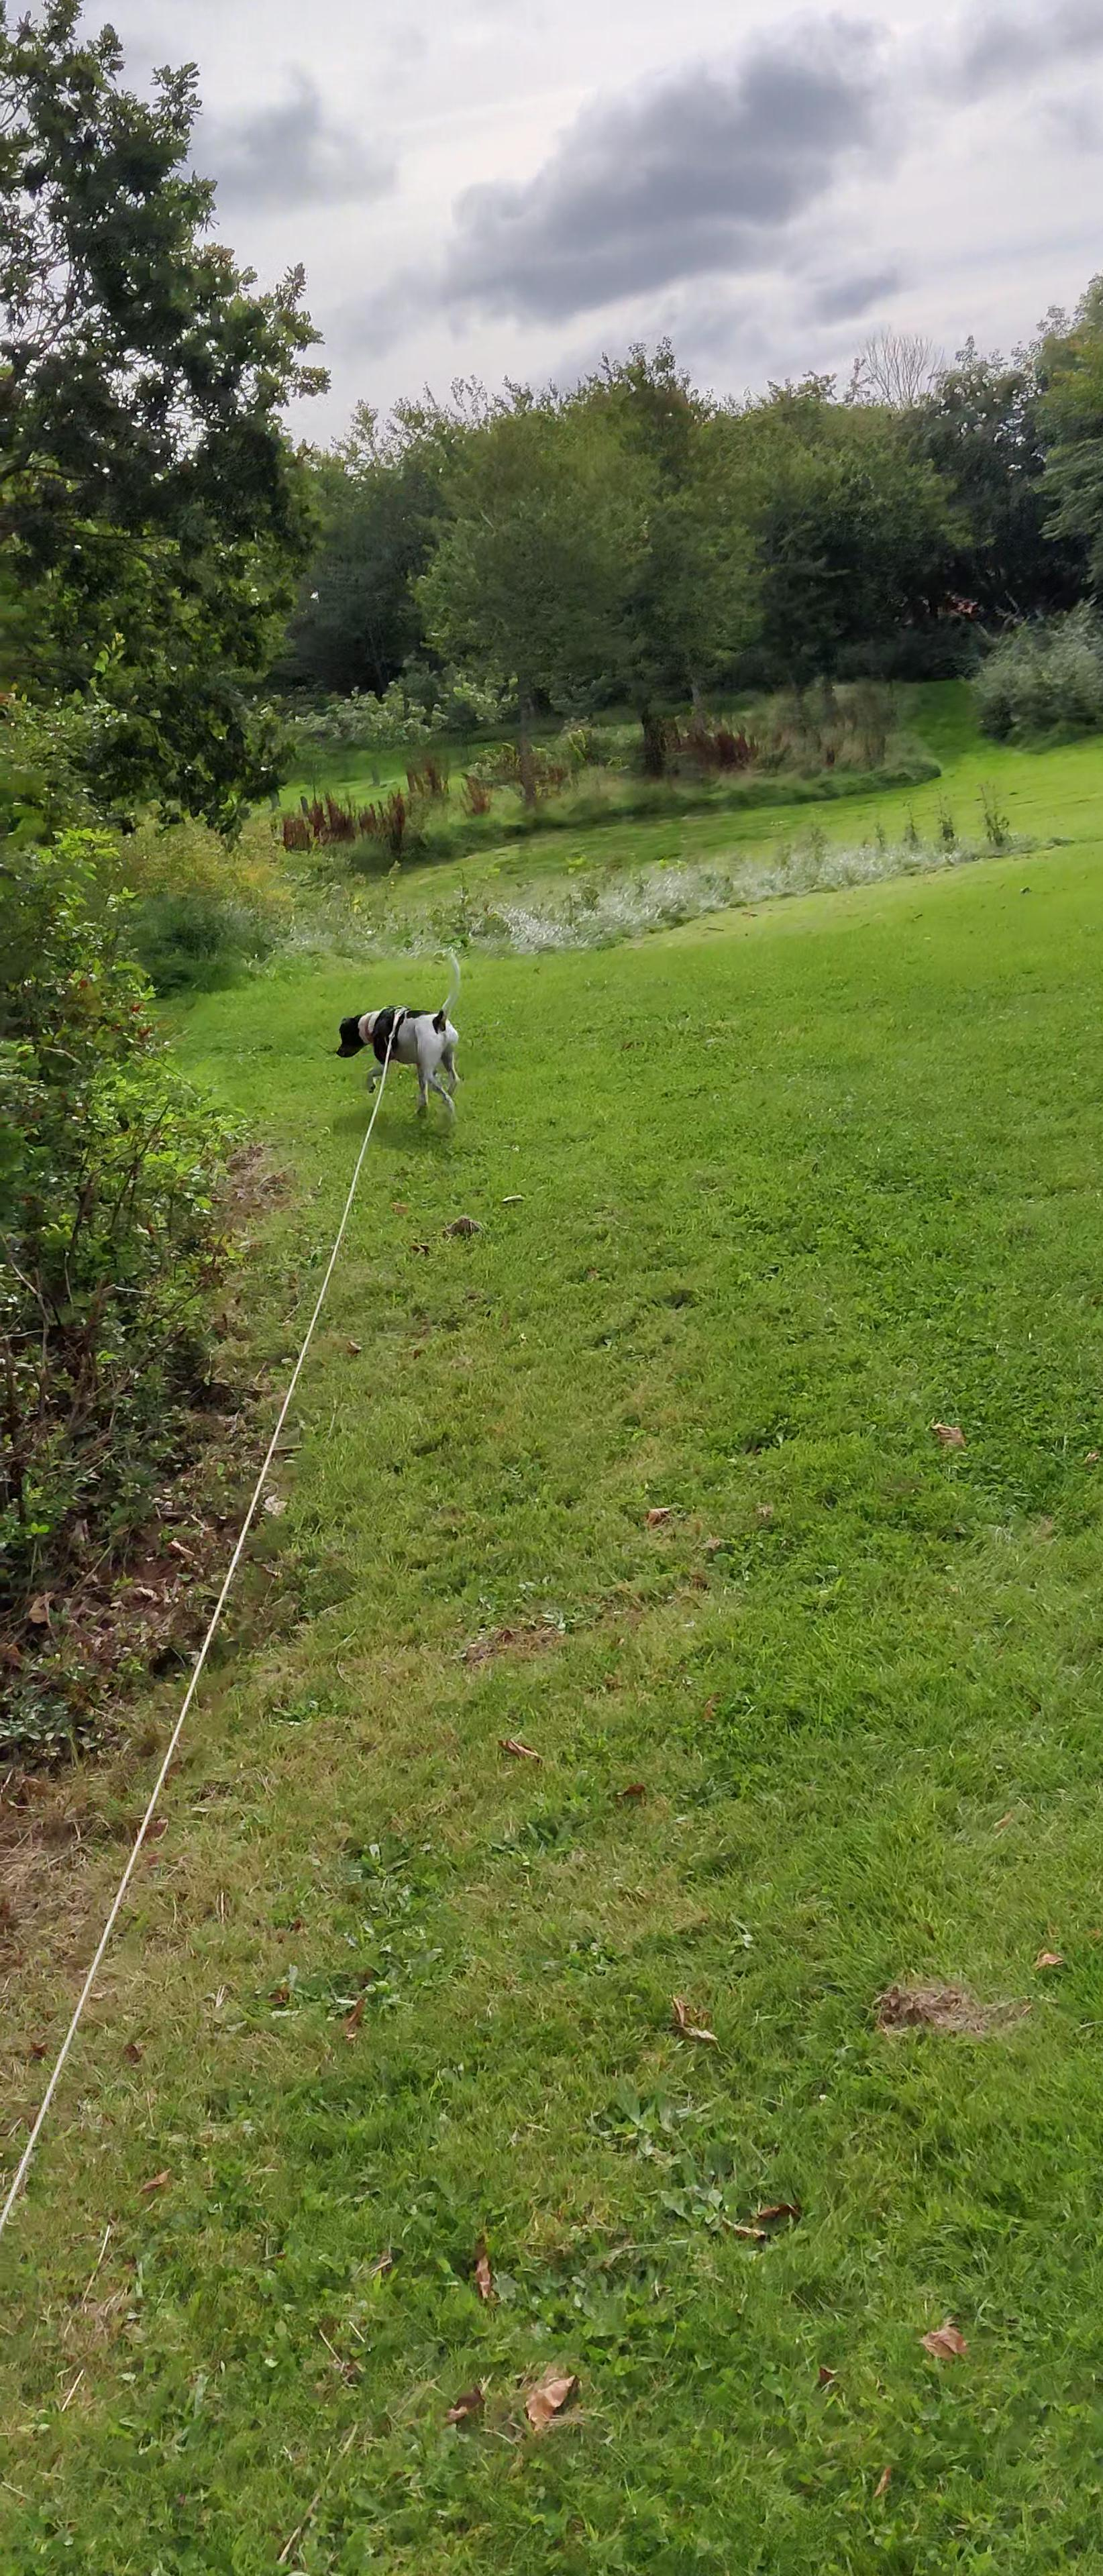Dog: (332, 946, 467, 1120)
